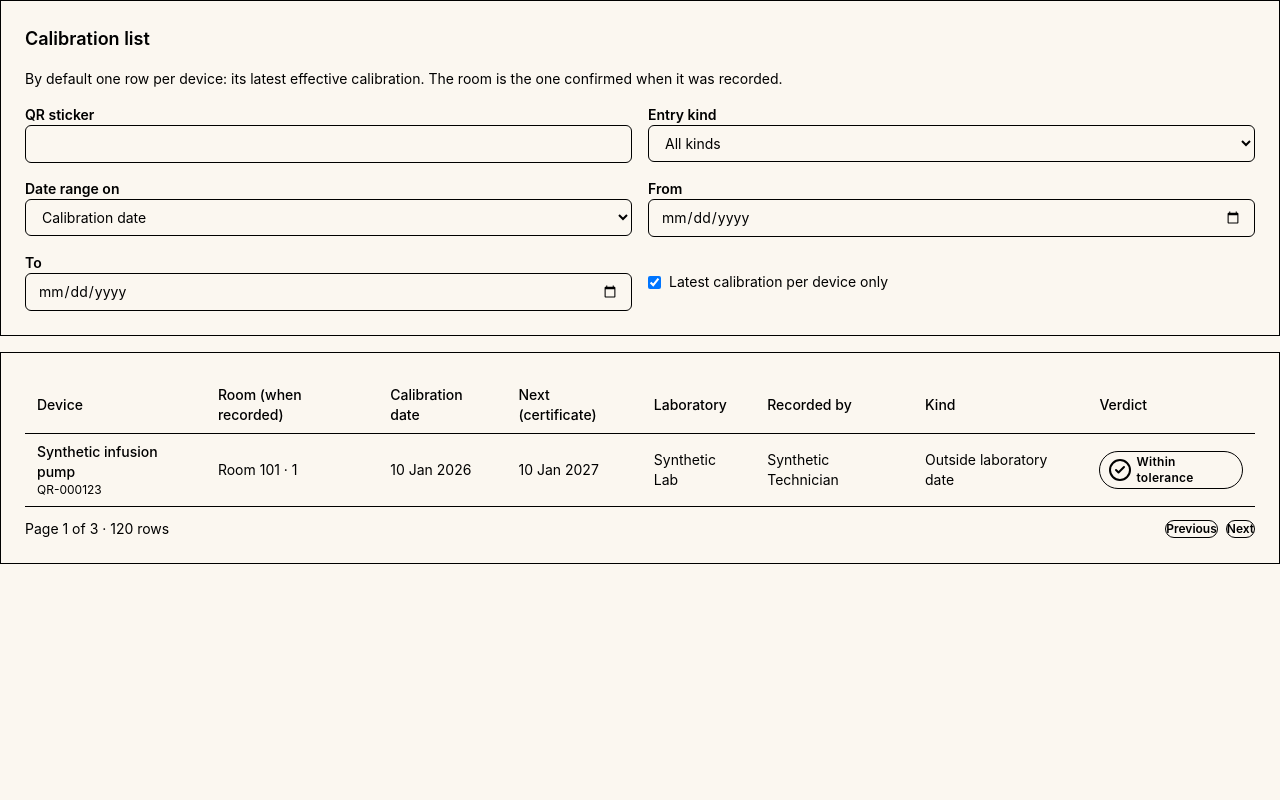
Test: P22-05 — calibration list › pages through the top-level meta
Expected: the text "Page 1 of 3 · 120 rows" is shown, [25, 519, 169, 539]
Expected: the button "Previous" is disabled, [1165, 520, 1218, 538]
Click the button "Next". click: x=1240, y=529
box: [1226, 520, 1255, 538]
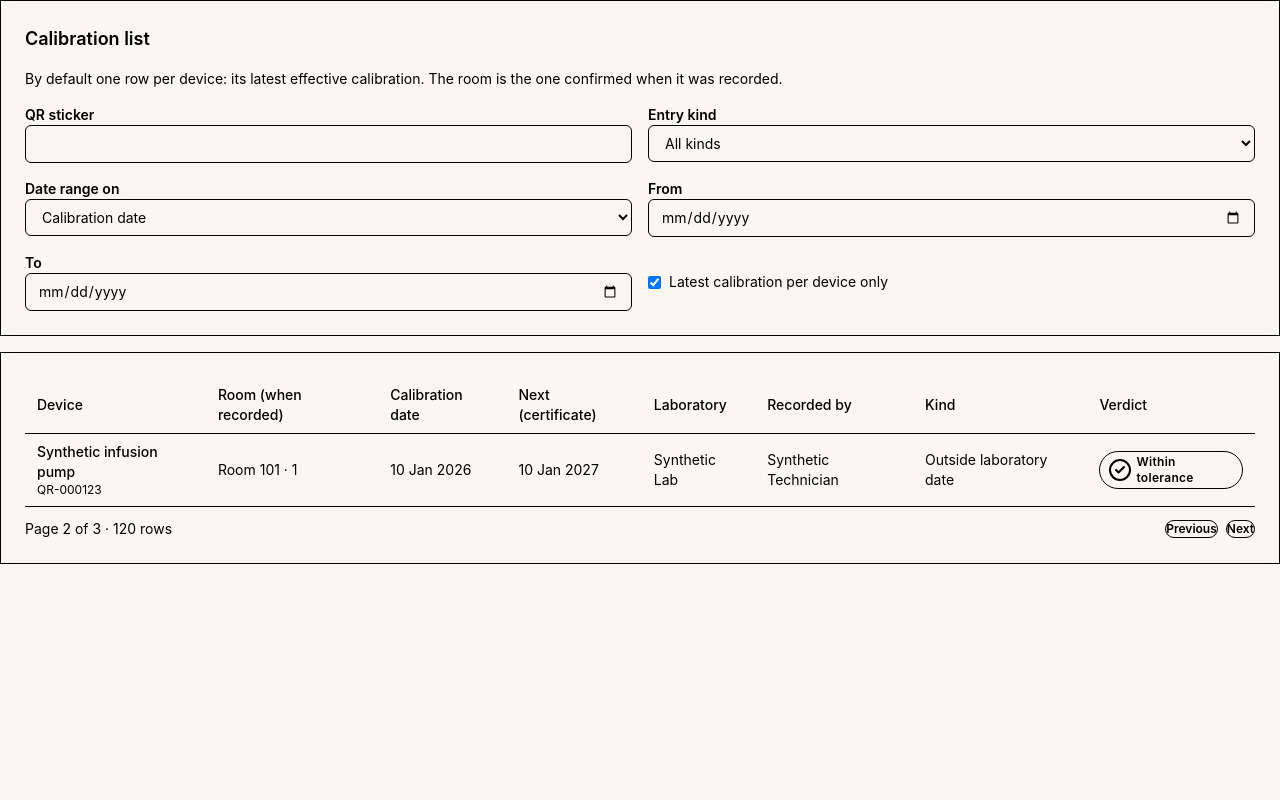
Expected: the text "Page 2 of 3 · 120 rows" is shown, [25, 519, 172, 539]
Click the button "Previous". click: x=1191, y=529
box: [1165, 520, 1218, 538]
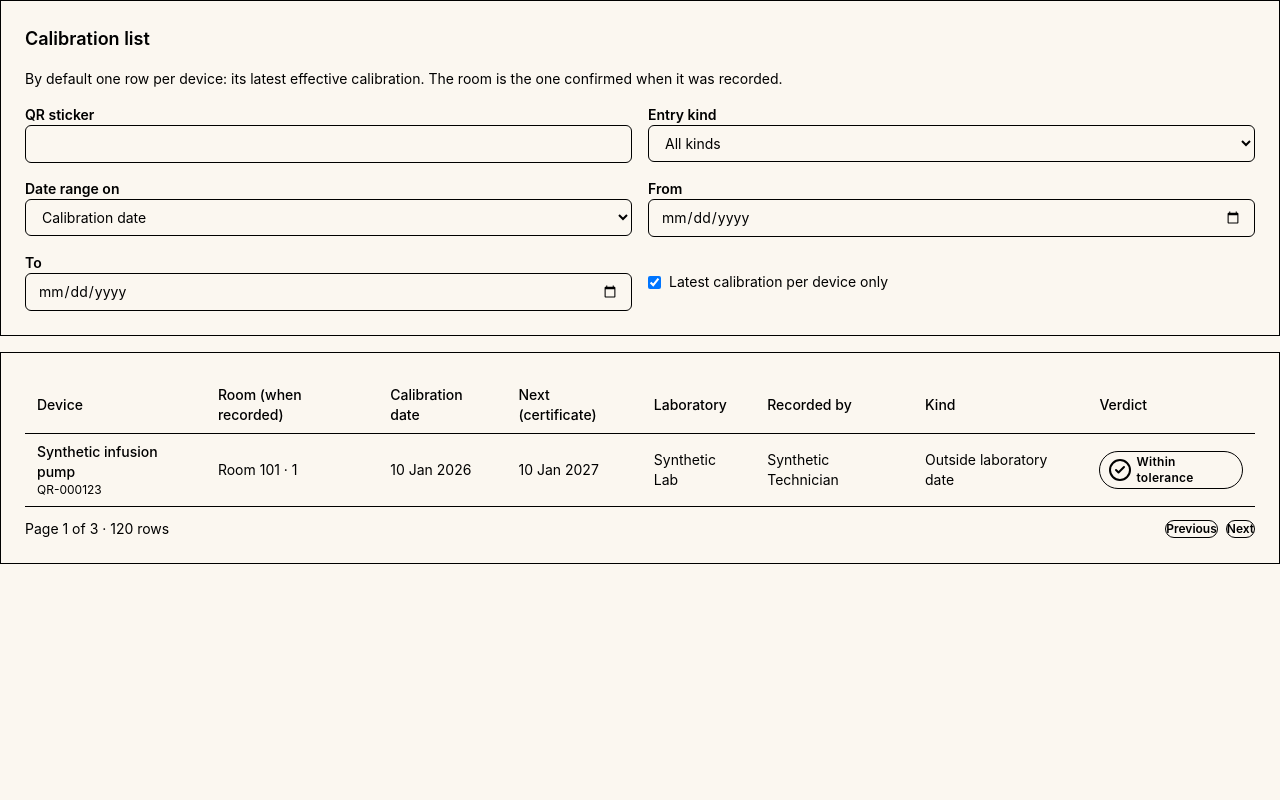
Expected: the text "Page 1 of 3 · 120 rows" is shown, [25, 519, 169, 539]
